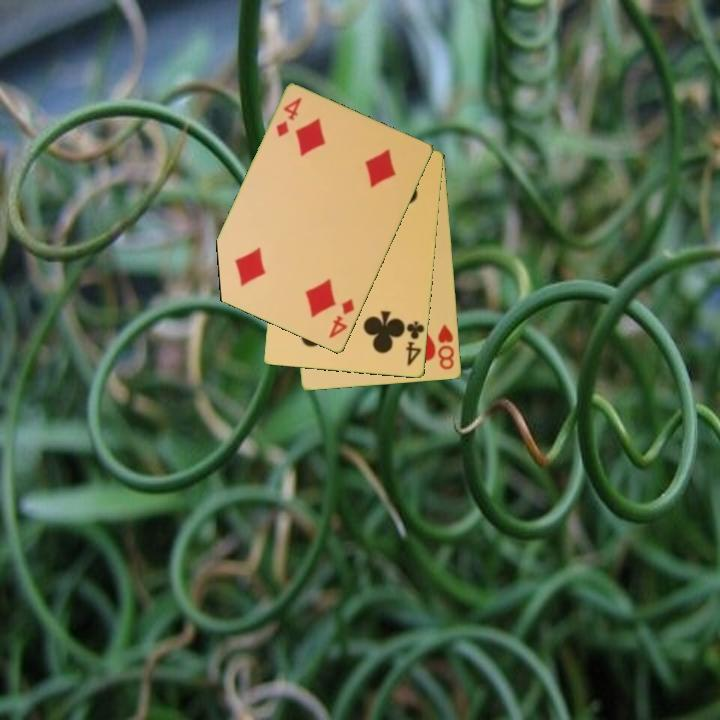4c: (403, 317, 427, 369)
4d: (325, 295, 358, 341), (273, 94, 305, 140)
8h: (435, 321, 457, 373)
